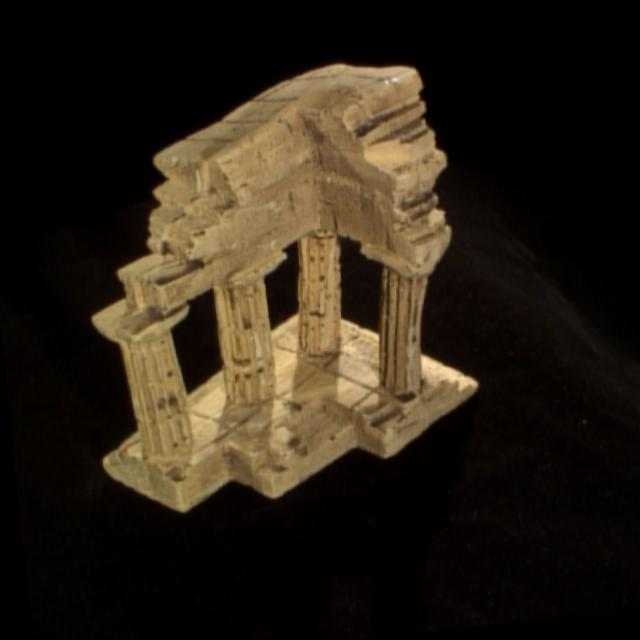Instance-Segmentation: (90, 64, 475, 510)
